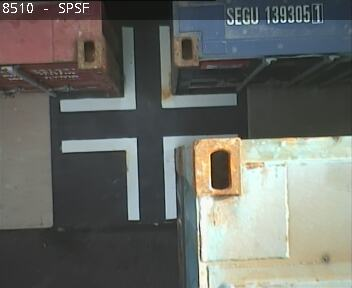groundmarker_1: (59, 25, 237, 112), (62, 133, 239, 220)
